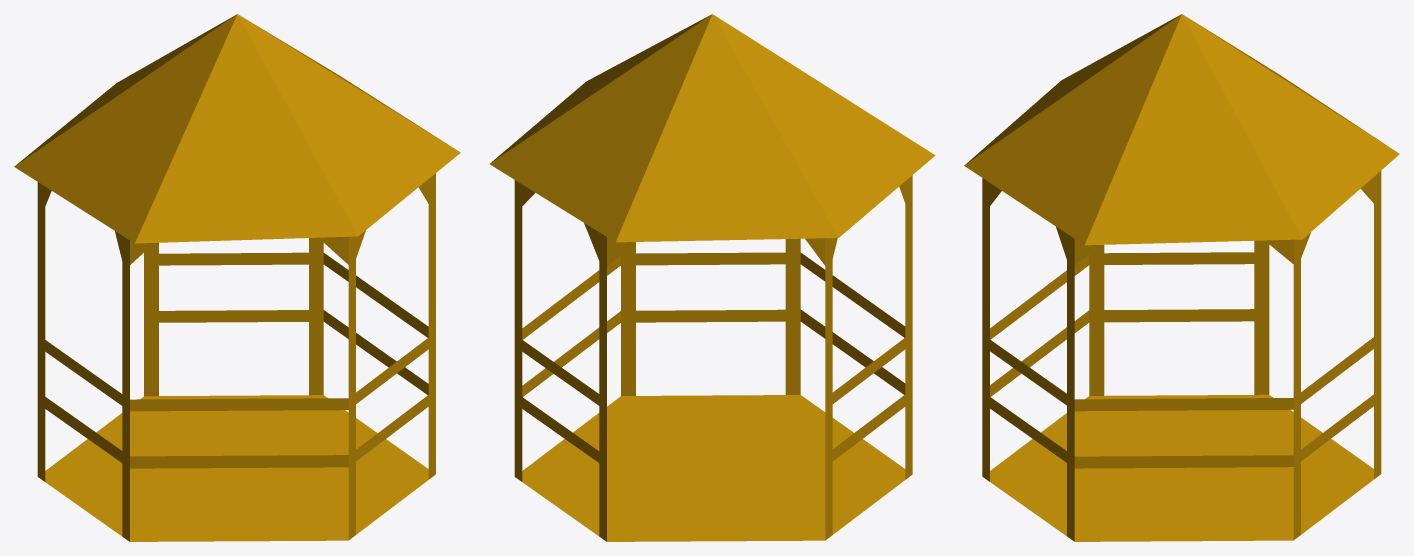
The model's file is SummerHosue .glb.
3 views of the same model, side by side, from view 1: azimuth 30°, elevation 25°; view 2: azimuth 150°, elevation 25°; view 3: azimuth 270°, elevation 25° (orthographic).
Parts seen in each view (by area): view 1: Mesh3 SummerHouse1 SummerHosue1 Model, Mesh1 Group1 SummerHouse1 SummerHosue1 Model; view 2: Mesh3 SummerHouse1 SummerHosue1 Model, Mesh1 Group1 SummerHouse1 SummerHosue1 Model; view 3: Mesh3 SummerHouse1 SummerHosue1 Model, Mesh1 Group1 SummerHouse1 SummerHosue1 Model.
Boxes of the visible parts, x1=… form: Mesh3 SummerHouse1 SummerHosue1 Model: x1=37, y1=173, x2=435, y2=541; Mesh1 Group1 SummerHouse1 SummerHosue1 Model: x1=14, y1=14, x2=460, y2=243; Mesh3 SummerHouse1 SummerHosue1 Model: x1=514, y1=175, x2=912, y2=541; Mesh1 Group1 SummerHouse1 SummerHosue1 Model: x1=489, y1=14, x2=935, y2=242; Mesh3 SummerHouse1 SummerHosue1 Model: x1=982, y1=171, x2=1381, y2=541; Mesh1 Group1 SummerHouse1 SummerHosue1 Model: x1=964, y1=14, x2=1399, y2=245.
Bounding box in the file's own units: 17.73 × 22.13 × 19.12.
